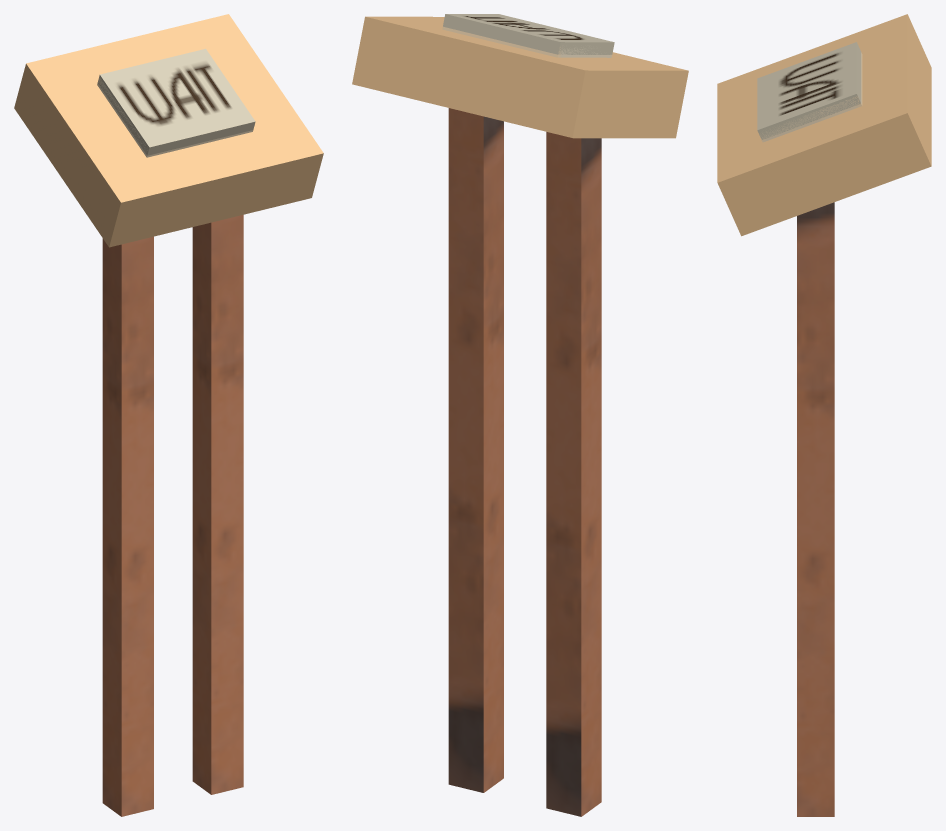
File: Tower_Station_CallerButton_Art.glb
3 renders of one model, left to right at view 1: azimuth 30°, elevation 25°; view 2: azimuth 150°, elevation 25°; view 3: azimuth 270°, elevation 25°, orthographic. The views are drawn at different scales.
Visible parts, largest first — view 1: Tower_Station_CallerButton_Art; view 2: Tower_Station_CallerButton_Art; view 3: Tower_Station_CallerButton_Art.
Boxes of the visible parts, x1,y1,x2,y2 form: Tower_Station_CallerButton_Art: (14,14,323,816); Tower_Station_CallerButton_Art: (352,14,688,816); Tower_Station_CallerButton_Art: (717,14,931,816).
Bounding box in the file's own units: 0.3733 × 1.27 × 0.341.
1 material, 1 textured.
